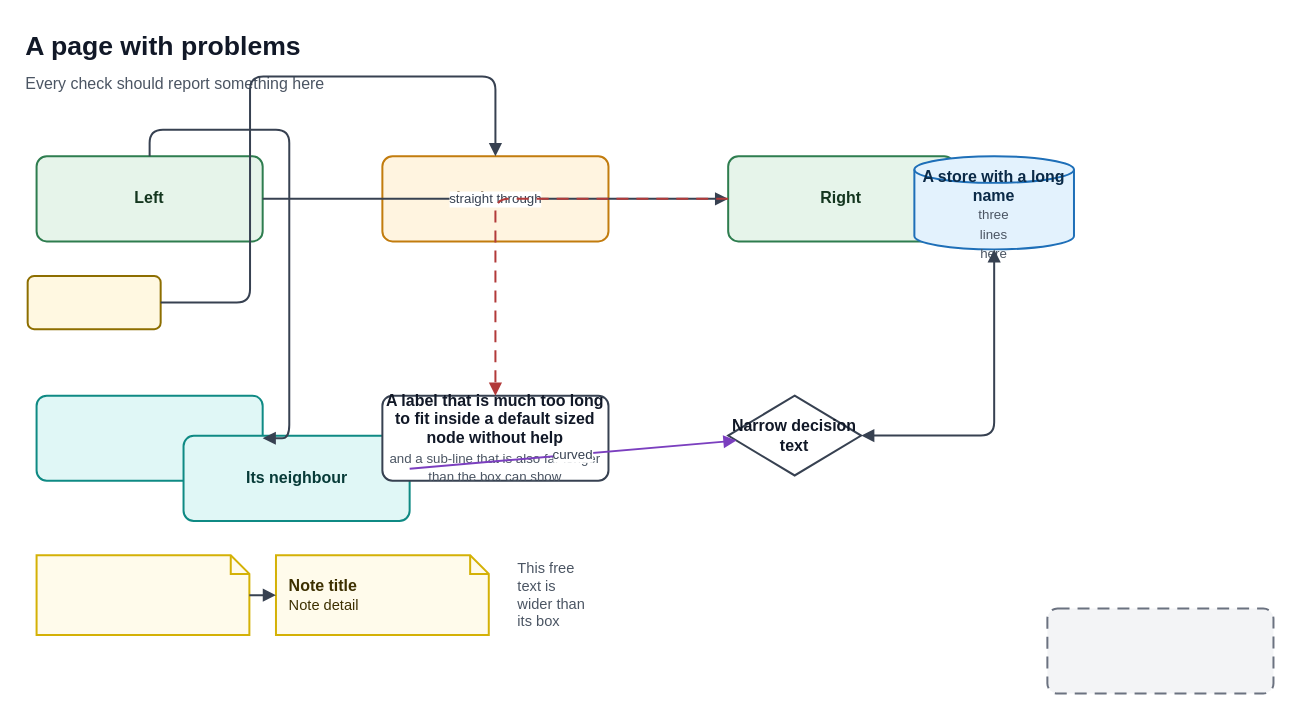
Image size: 1297x717. Some labels were removed from this diagram. Each missing label, with the centre of its shape:
"A note with two lines" goes at point 142,594.
"Off the page" goes at point 1160,650.
"Overlaps" goes at point 149,437.
"Thirds" goes at point 93,302.
